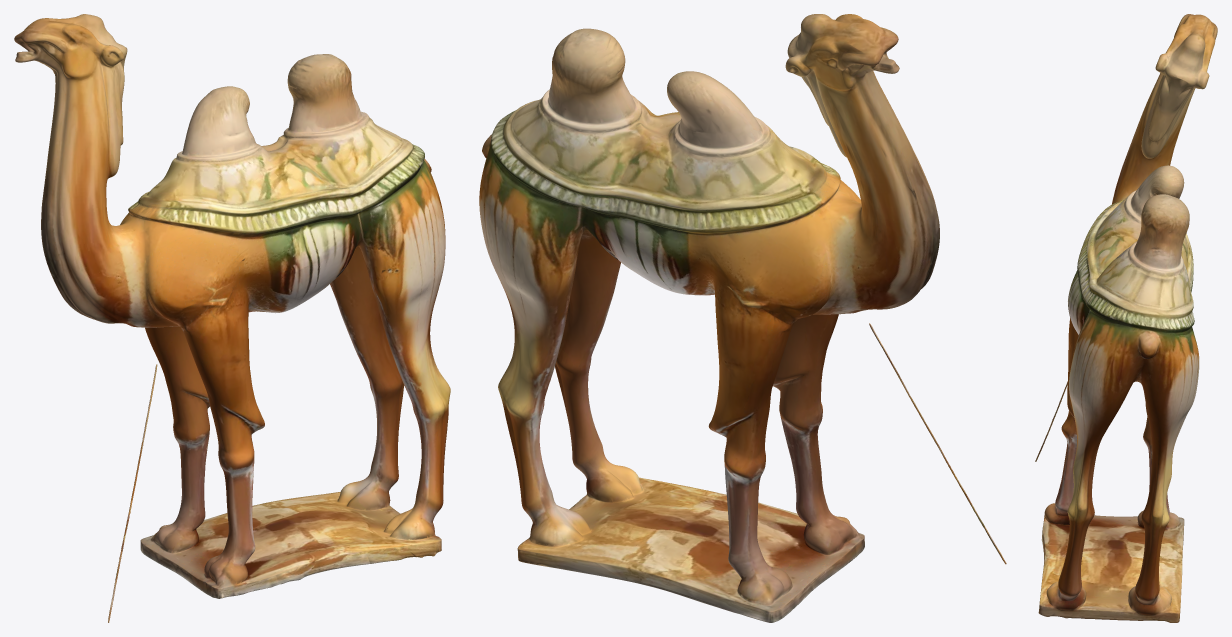
The model's file is tang-sancai-camel.lod.glb.
3 views of the same model, side by side, from view 1: azimuth 30°, elevation 25°; view 2: azimuth 150°, elevation 25°; view 3: azimuth 270°, elevation 25° (orthographic). The views are drawn at different scales.
Visible parts, largest first — view 1: node_0; view 2: node_0; view 3: node_0.
Boxes of the visible parts, x1,y1,x2,y2 form: node_0: [14, 14, 450, 622]; node_0: [479, 14, 1006, 622]; node_0: [1035, 14, 1217, 622].
Bounding box in the file's own units: 0.7205 × 0.9735 × 0.3385.
Materials: 1 (1 with a texture image).
